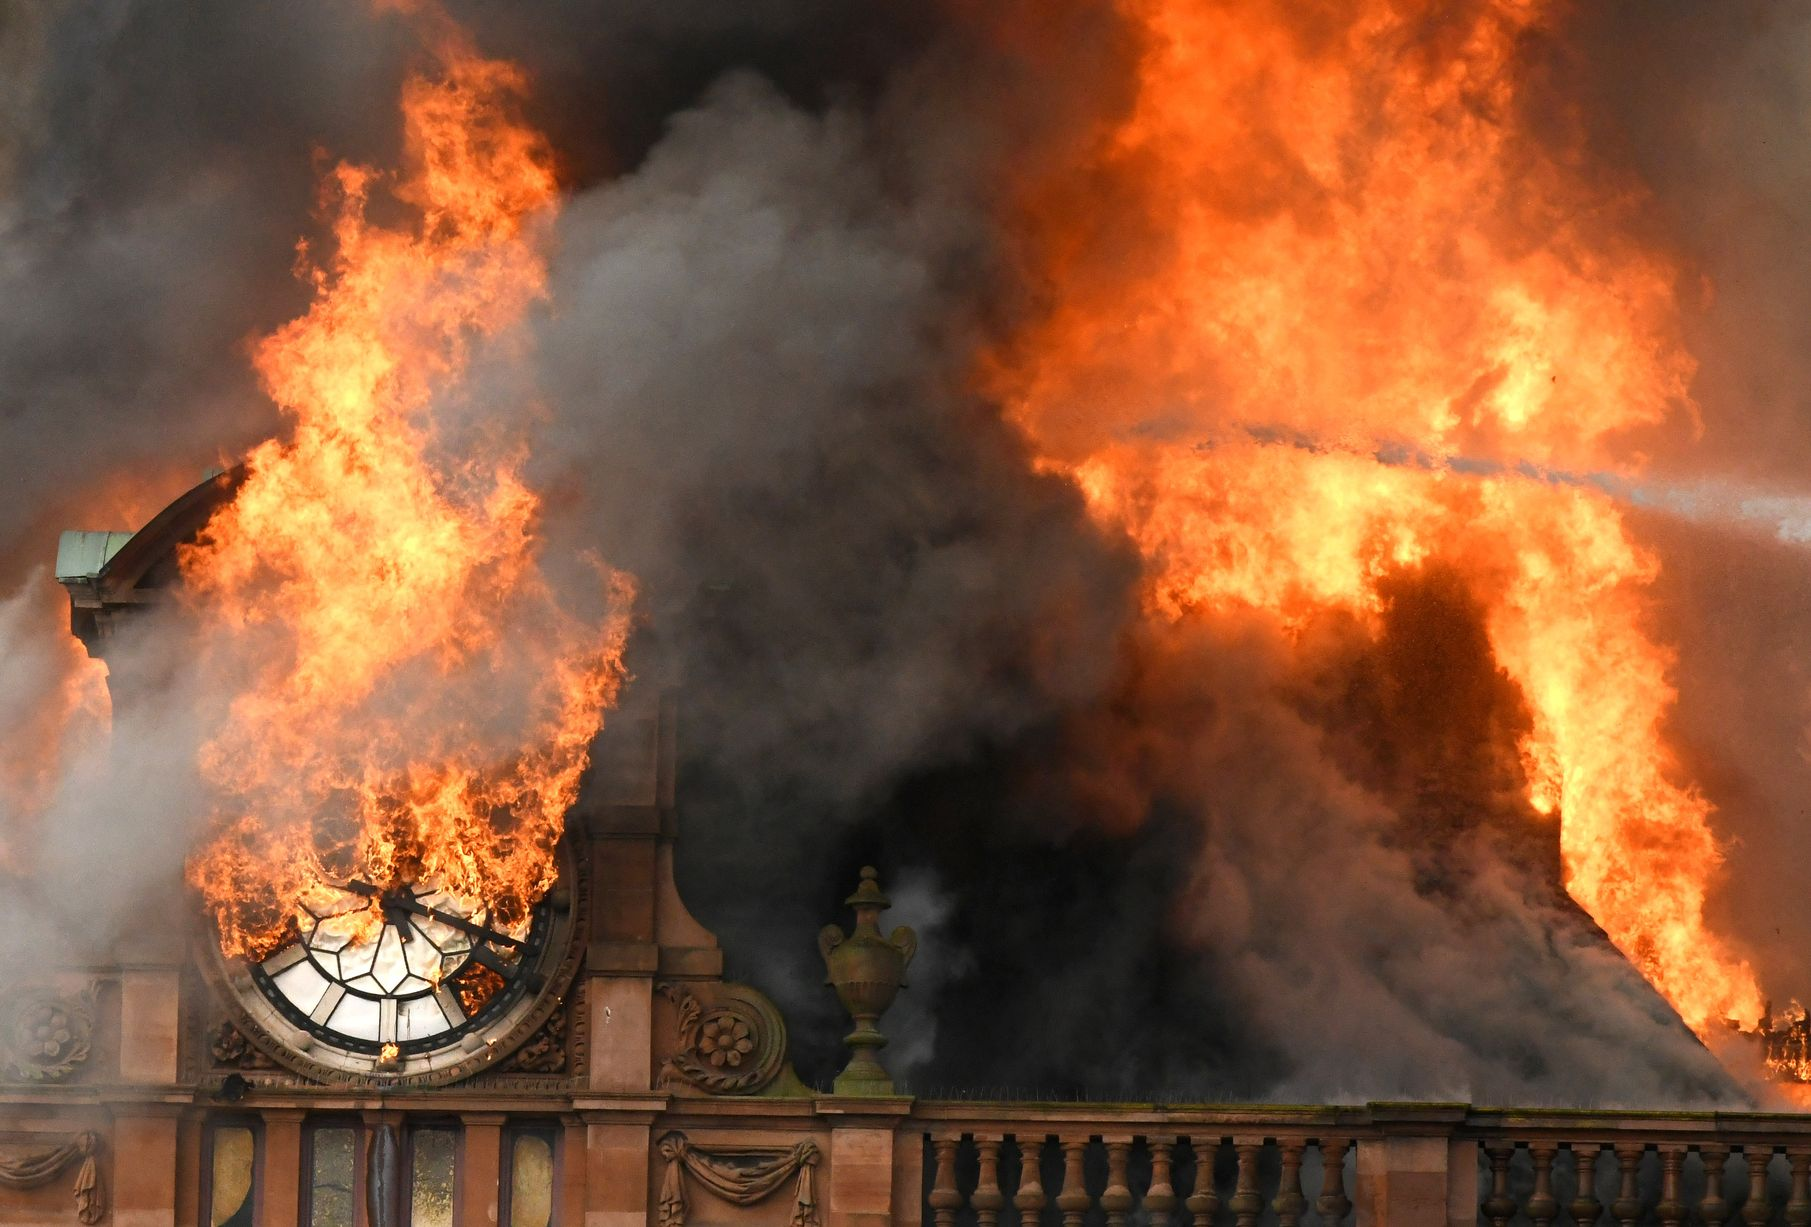fire: (1128, 36, 1645, 566), (226, 316, 526, 713), (1503, 577, 1778, 1007)
smoke: (557, 140, 1016, 760), (1080, 609, 1485, 1083), (12, 14, 220, 505), (14, 556, 182, 1012)
